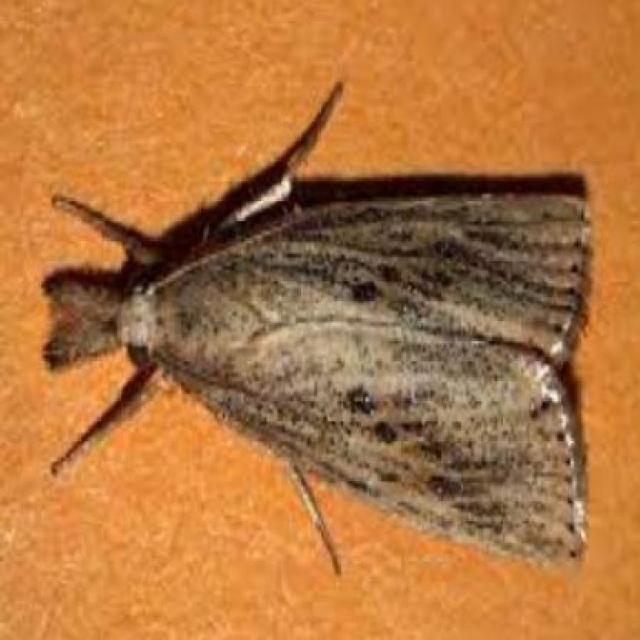stem-borer: (35, 84, 596, 585)
